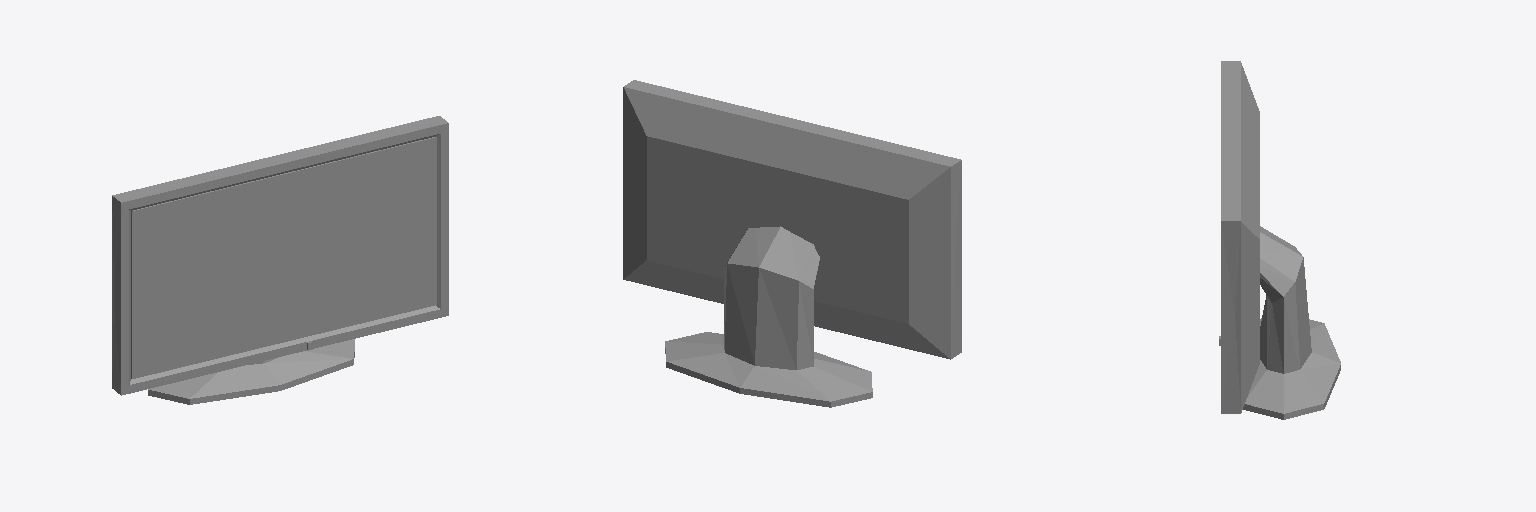
The picture shows the model from 3 angles: view 1: azimuth 30°, elevation 25°; view 2: azimuth 150°, elevation 25°; view 3: azimuth 270°, elevation 25°; orthographic projection.
Parts seen in each view (by area): view 1: sweethome3d_window_pane, ecran, socle; view 2: ecran, socle; view 3: ecran, socle.
Part boxes in pixels (x1,y1,x2,y2): sweethome3d_window_pane: (131,137,436,378); ecran: (112,116,448,395); socle: (148,339,354,404); ecran: (623,80,961,359); socle: (665,226,872,407); ecran: (1221,61,1259,413); socle: (1243,226,1340,419).
Size of the model in its own units: 4.01 by 2.68 by 1.3.